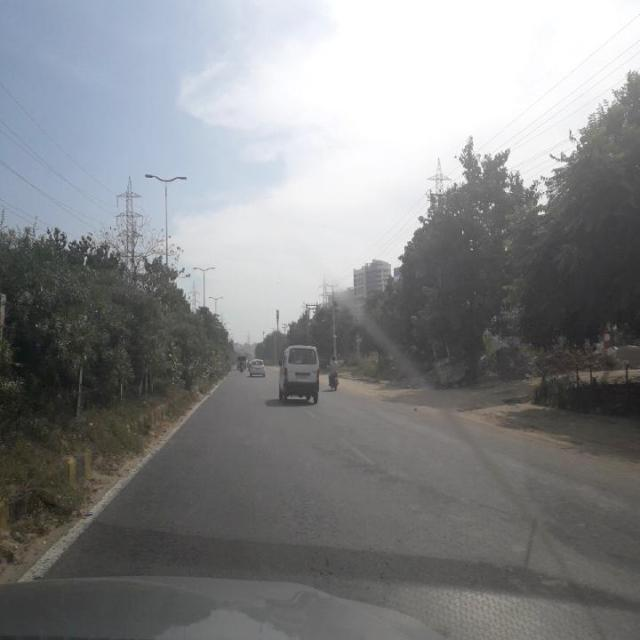crack: (488, 443, 634, 609), (106, 417, 245, 580), (274, 424, 412, 588)
